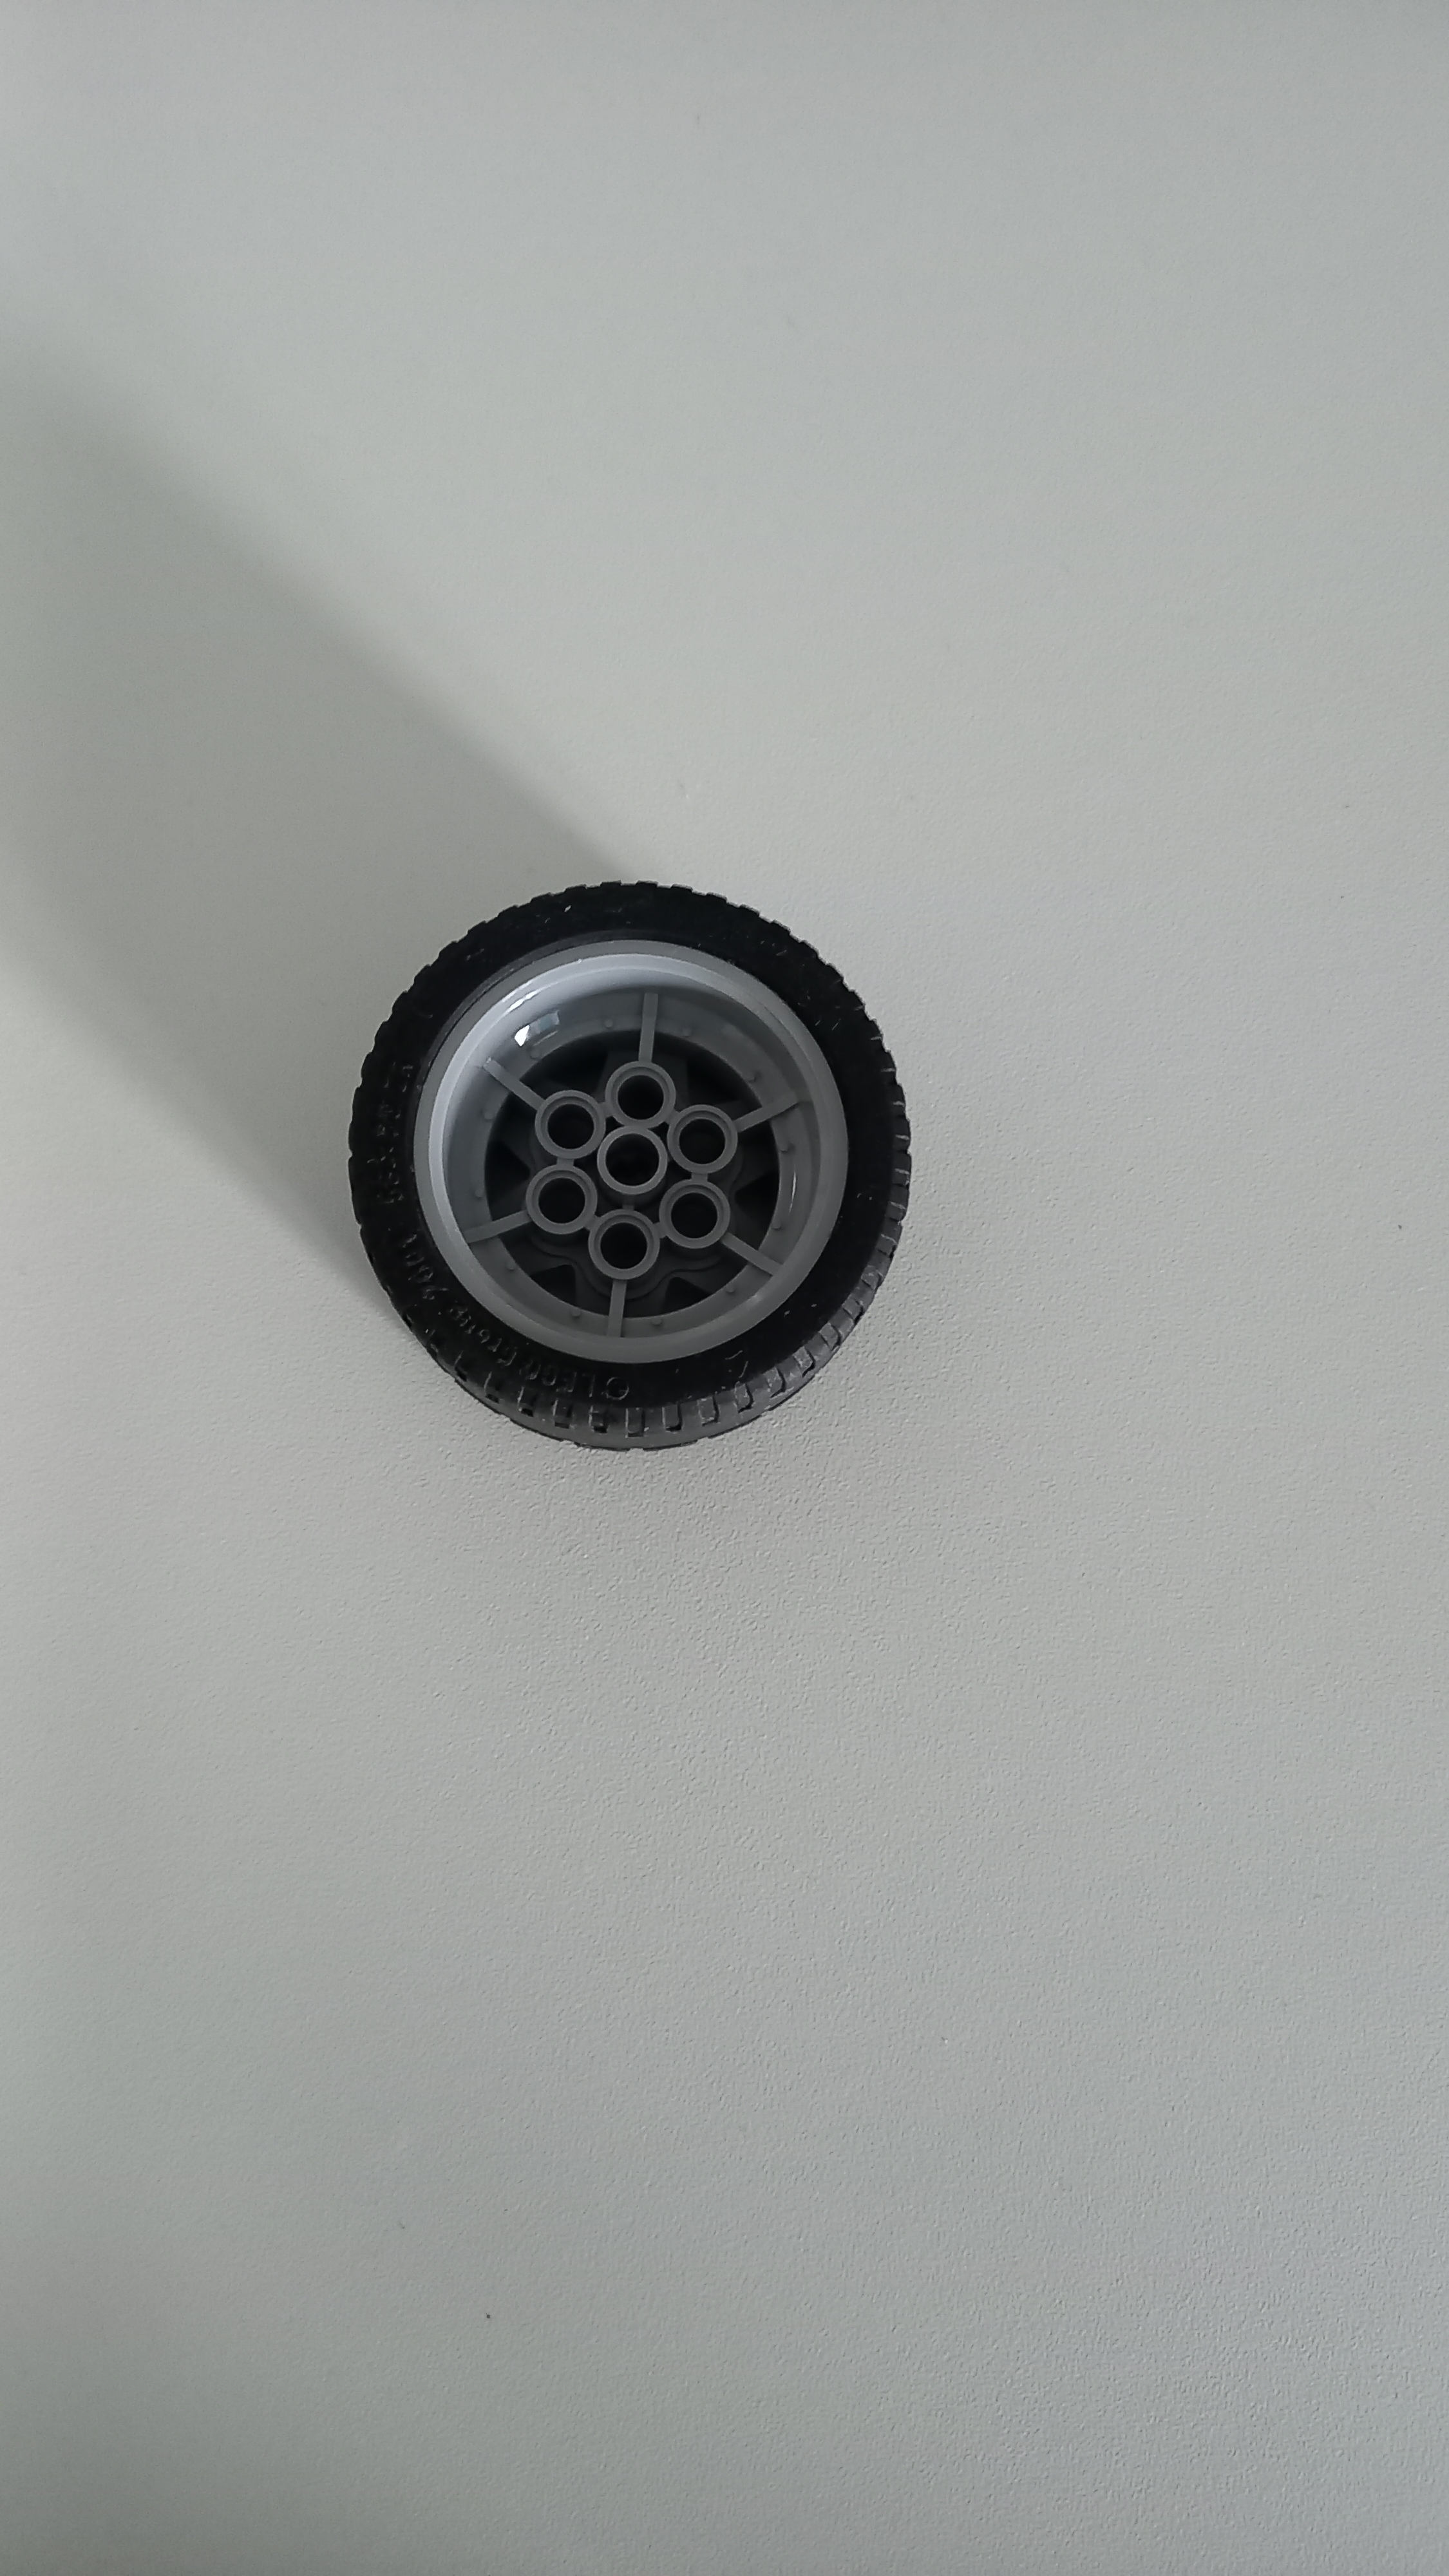Rad: (315, 851, 950, 1476)
